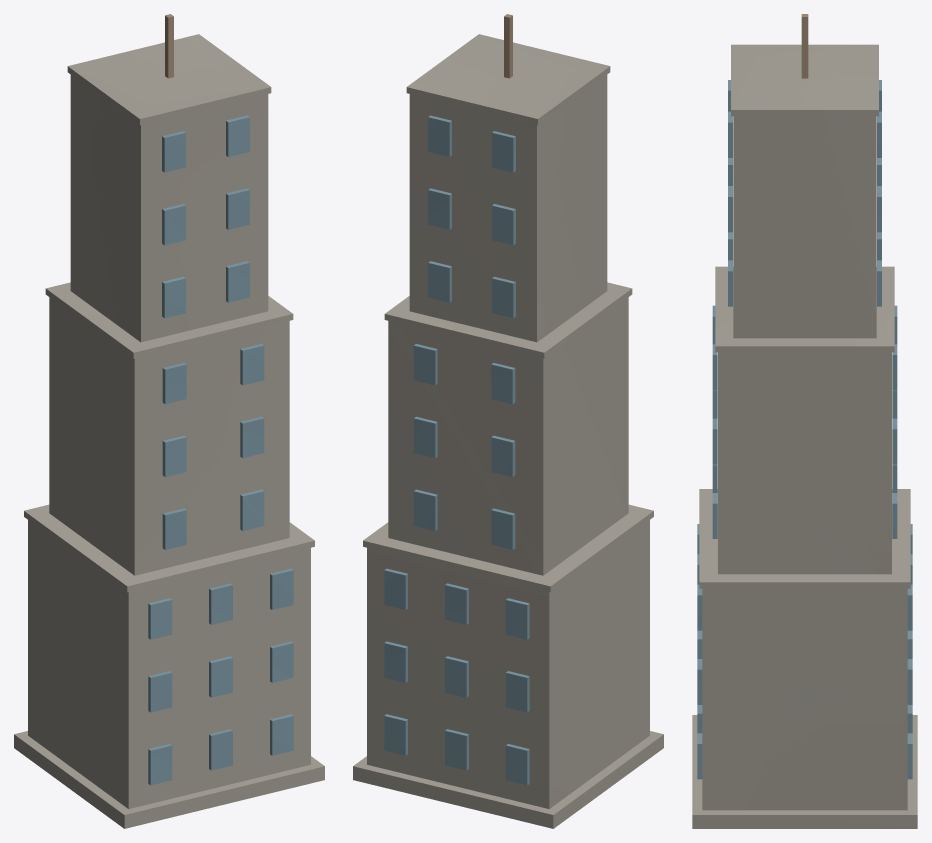
File: tower-04.glb
3 views of the same model, side by side, from view 1: azimuth 30°, elevation 25°; view 2: azimuth 150°, elevation 25°; view 3: azimuth 270°, elevation 25° (orthographic). The views are drawn at different scales.
Visible parts, largest first — view 1: world; view 2: world; view 3: world.
Part boxes in pixels (x1,y1,x2,y2): world: (14,14,324,828); world: (353,14,663,828); world: (692,14,917,828).
Bounding box in the file's own units: 1.21 × 4.32 × 1.15.
